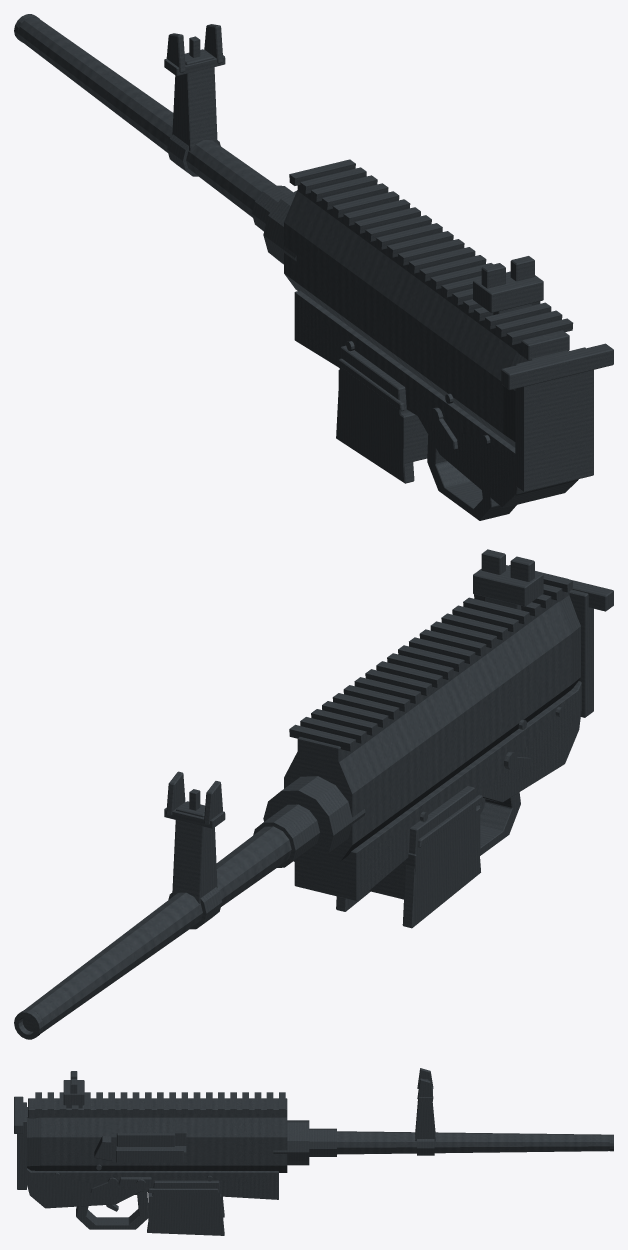
The model's file is weapon_mcxspearlt.glb.
3 renders of one model, top to bottom at view 1: azimuth 30°, elevation 25°; view 2: azimuth 150°, elevation 25°; view 3: azimuth 270°, elevation 25°, orthographic. The views are drawn at different scales.
Parts seen in each view (by area): view 1: body_LOD0, action_LOD0; view 2: body_LOD0, action_LOD0; view 3: body_LOD0, action_LOD0.
Part boxes in pixels (x1=…): body_LOD0: x1=14, y1=14, x2=593, y2=520; action_LOD0: x1=501, y1=343, x2=613, y2=390; body_LOD0: x1=14, y1=549, x2=593, y2=1039; action_LOD0: x1=509, y1=565, x2=613, y2=611; body_LOD0: x1=17, y1=1068, x2=613, y2=1235; action_LOD0: x1=14, y1=1096, x2=174, y2=1146.
Size of what is drawn, in the model's own units: 0.124 by 0.3027 by 1.08.
Materials: 1 (1 with a texture image).
